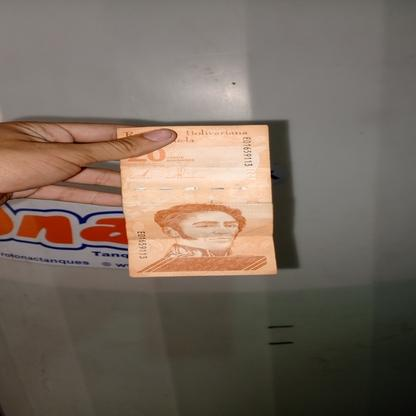vef_front: (116, 123, 276, 278)
